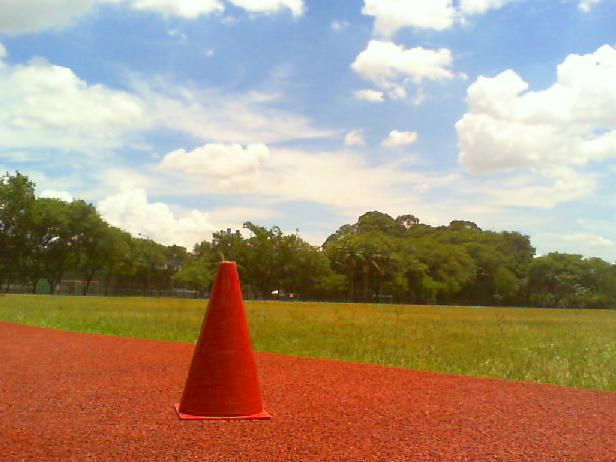0 cone: (174, 262, 272, 419)
